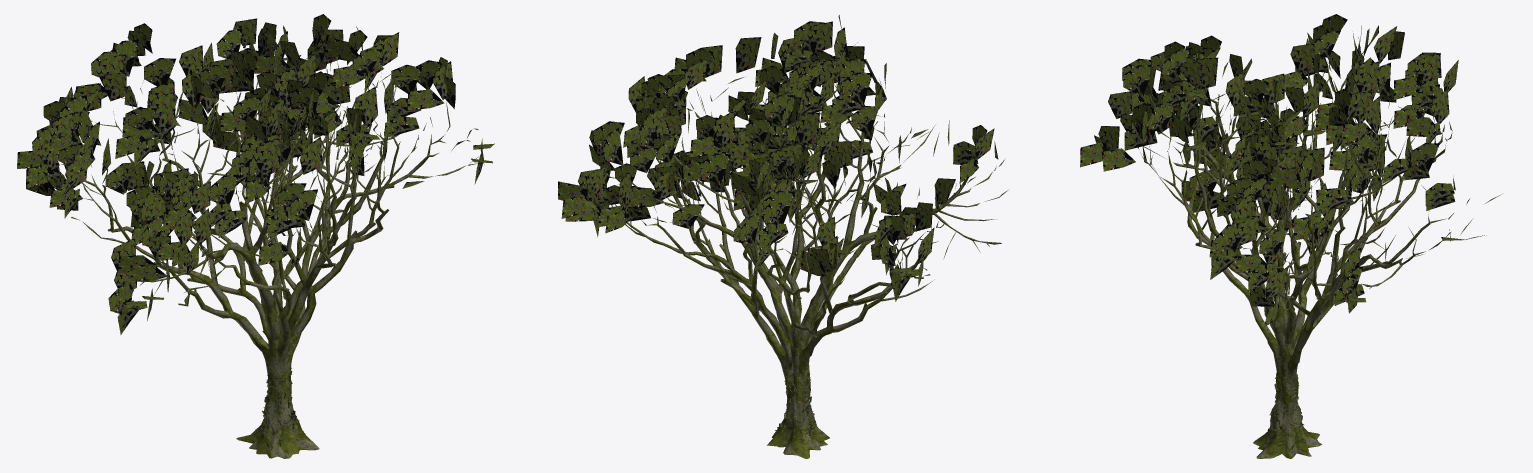
The model's file is jungle-hura-a-close.glb.
3 views of the same model, side by side, from view 1: azimuth 30°, elevation 25°; view 2: azimuth 150°, elevation 25°; view 3: azimuth 270°, elevation 25° (orthographic). The views are drawn at different scales.
Visible parts, largest first — view 1: LOD0; view 2: LOD0; view 3: LOD0.
Part boxes in pixels (x1,y1,x2,y2): LOD0: (17,14,494,458); LOD0: (558,15,1008,458); LOD0: (1080,14,1501,458).
Size of the model in its own units: 21.12 by 18.21 by 18.38.
Materials: 1 (1 with a texture image).
